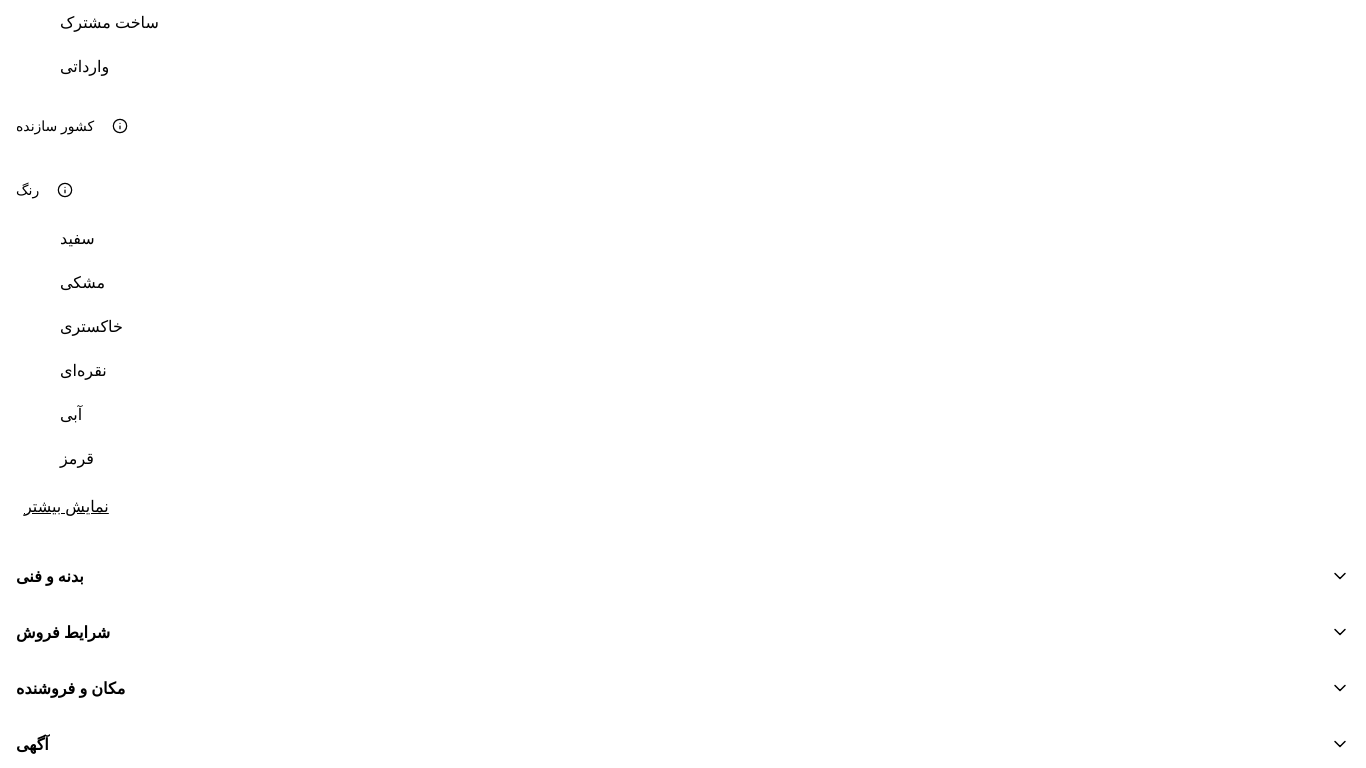
Test: the colours, a list written in code, show their first six in two columns and grow the same way
(page scrolled)
Click the button "نمایش بیشتر" at (66, 506), box [16, 484, 117, 528]
(page scrolled)
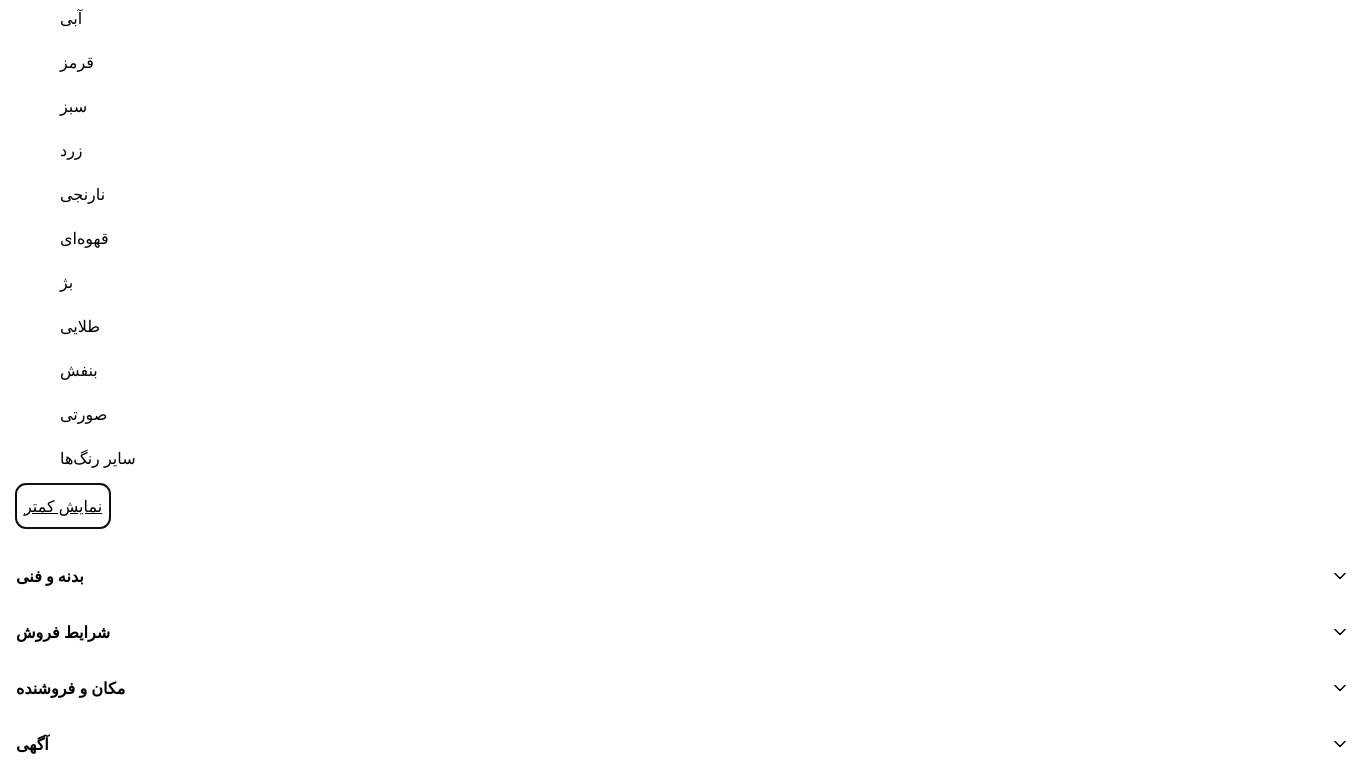
Expected: the button "نمایش کمتر" is shown, [16, 484, 110, 528]
